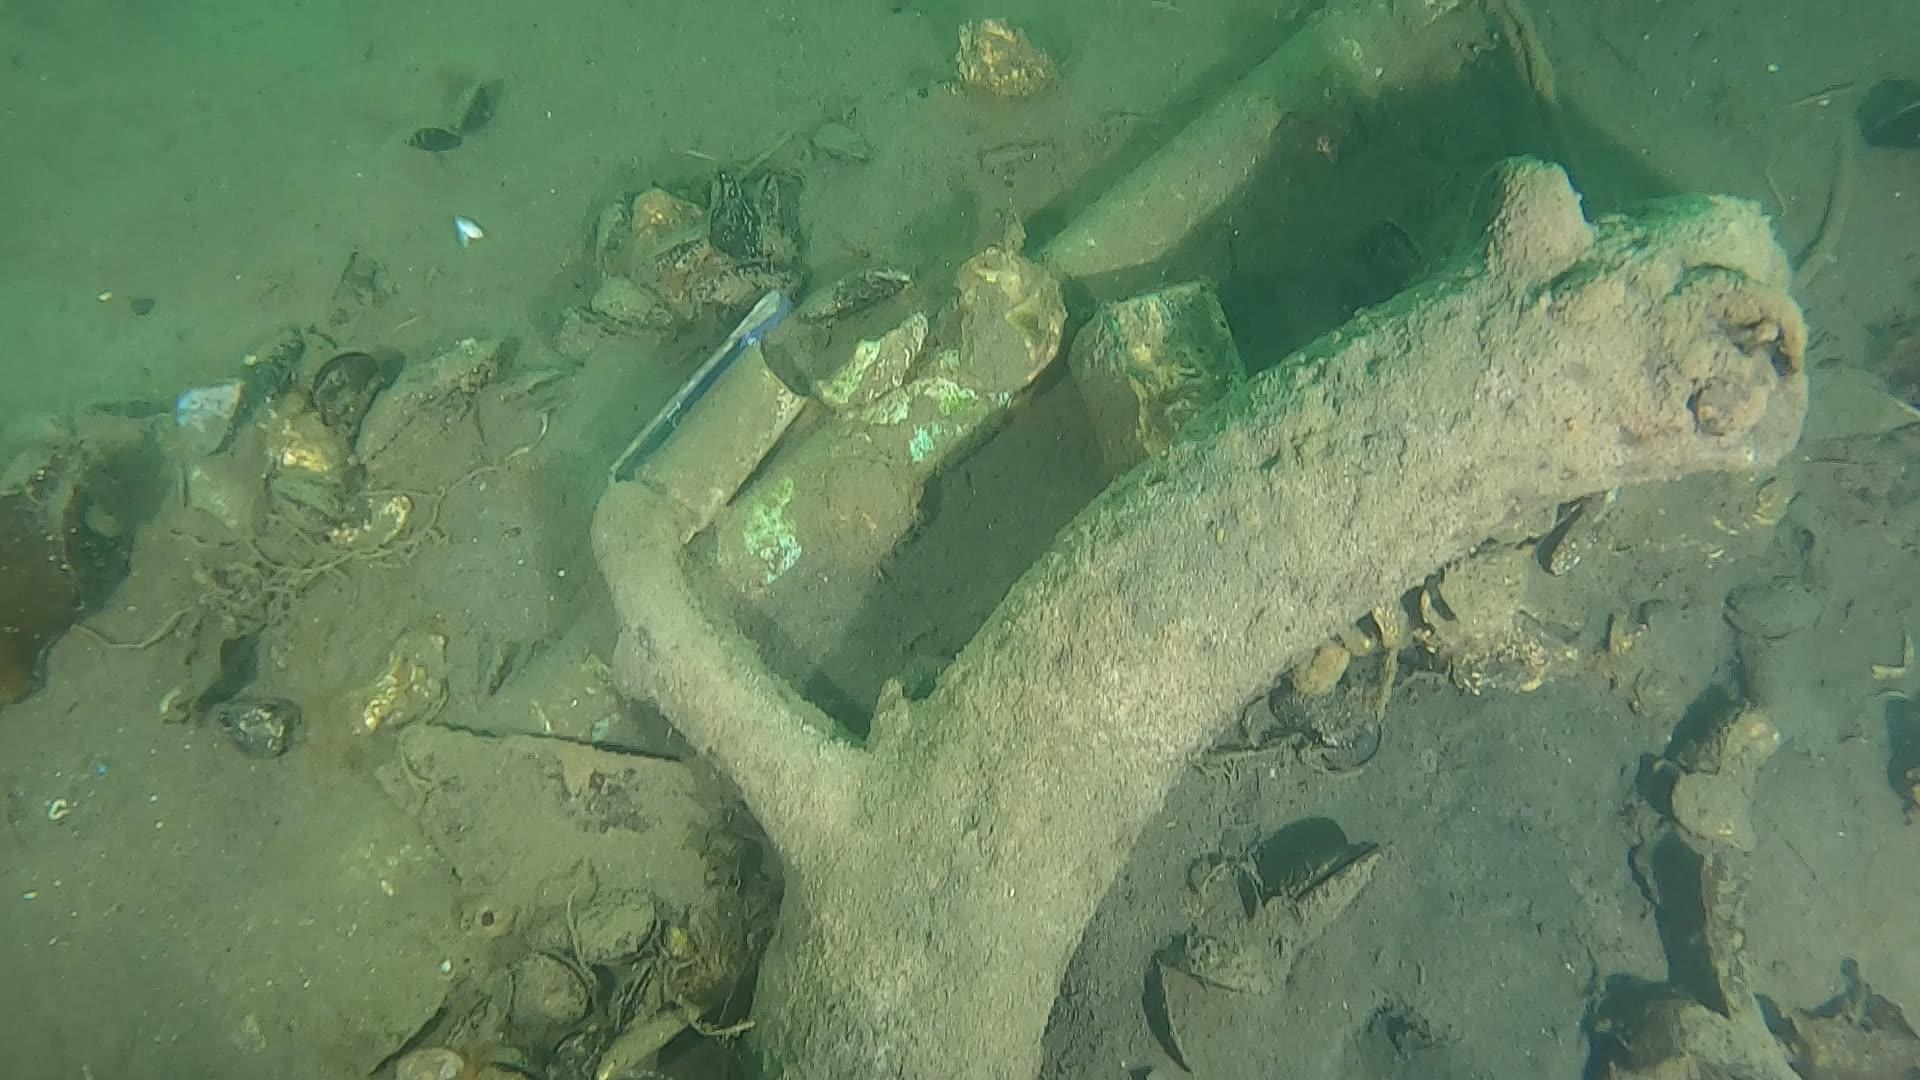wood: (585, 150, 1808, 1080)
